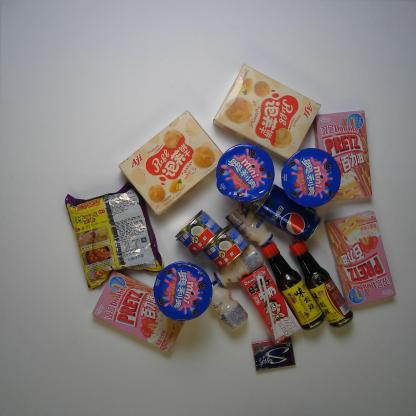Canned Food: (174, 209, 224, 258), (201, 223, 250, 270)
Dessert: (118, 110, 225, 215), (212, 64, 322, 162), (91, 270, 186, 353), (324, 209, 396, 308), (313, 108, 374, 204), (280, 147, 342, 208), (153, 260, 213, 322), (216, 143, 275, 203)
Drink: (253, 184, 322, 242)
Gum: (251, 336, 296, 371)
Instant Noodles: (64, 180, 165, 289)
Milk: (240, 265, 302, 345), (224, 200, 274, 247), (214, 244, 265, 288), (205, 280, 248, 332)
Seasoner: (288, 238, 354, 328), (261, 241, 325, 331)
